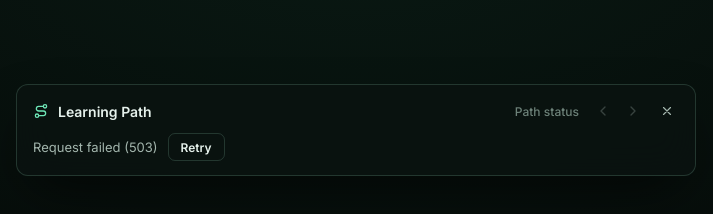
Test: LearningPath › refetches and renders the path when the Retry button is clicked
This screenshot has width=713, height=214.
Click the button with aria-label "retry building learning path" at (196, 147), box [168,133,225,161]
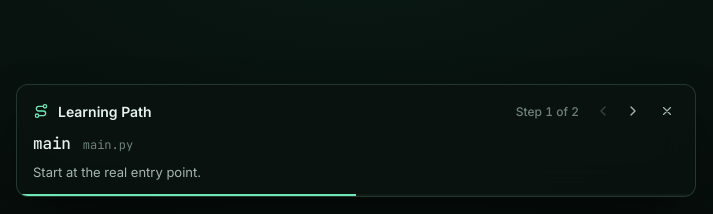
Expected: the text "main" is shown, [33,133,71,154]
